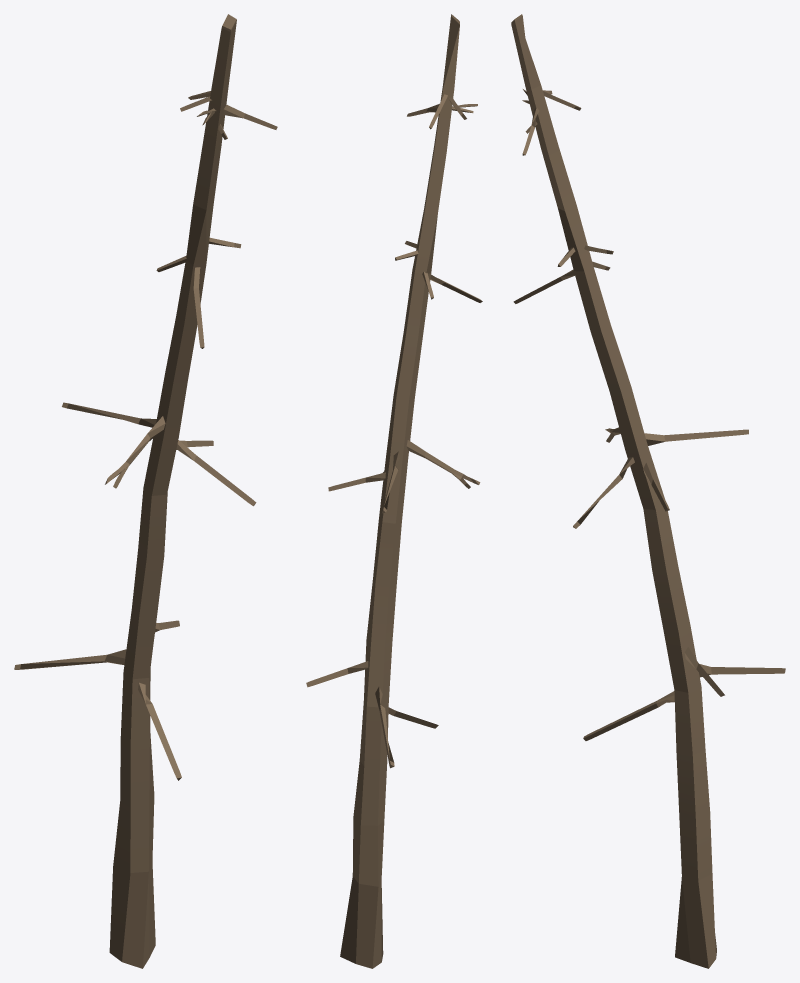
The model's file is pine_bare_6.FBX.
The picture shows the model from 3 angles, left to right: view 1: azimuth 30°, elevation 25°; view 2: azimuth 150°, elevation 25°; view 3: azimuth 270°, elevation 25°; orthographic projection. The views are drawn at different scales.
Parts seen in each view (by area): view 1: pine_bare_6; view 2: pine_bare_6; view 3: pine_bare_6.
Boxes of the visible parts, x1,y1,x2,y2 form: pine_bare_6: (14, 14, 277, 968); pine_bare_6: (306, 14, 482, 968); pine_bare_6: (511, 14, 785, 968).
Size of the model in its own units: 1.07 by 7.37 by 1.94.
